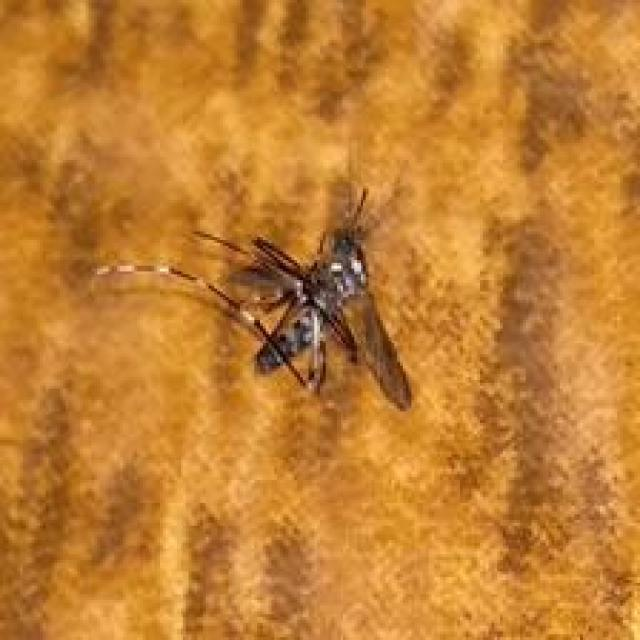Aedes albopictus: (90, 173, 416, 413)
